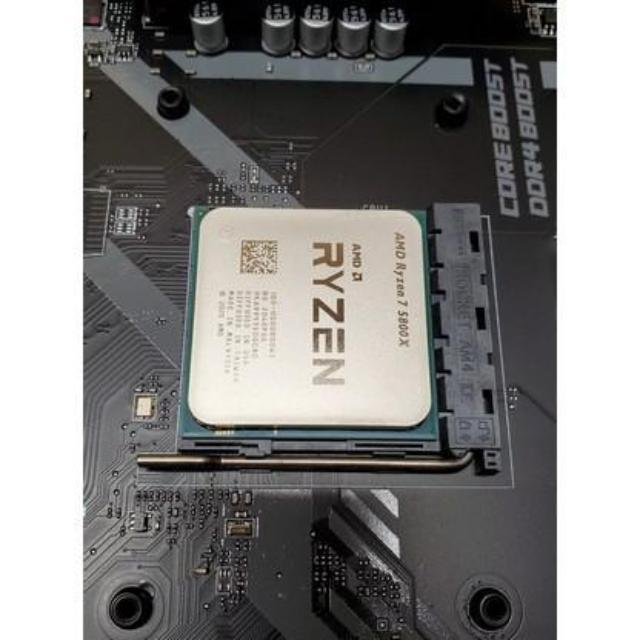CPU: (186, 200, 432, 432)
